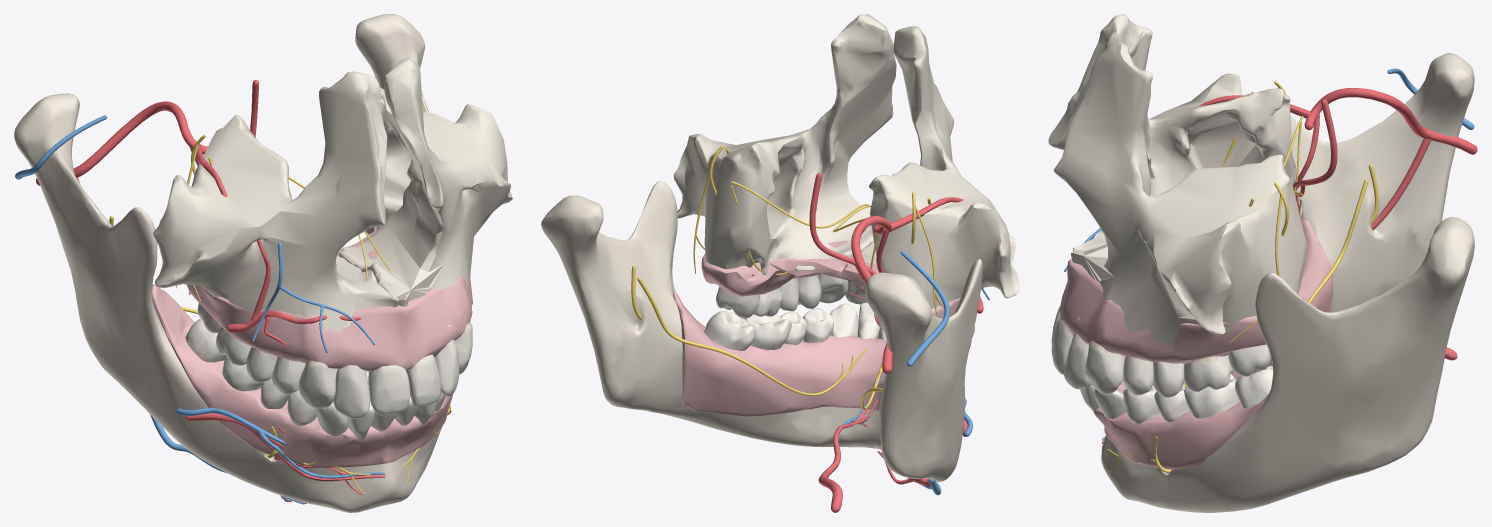
The model's file is teeth.glb.
3 renders of one model, left to right at view 1: azimuth 30°, elevation 25°; view 2: azimuth 150°, elevation 25°; view 3: azimuth 270°, elevation 25°, orthographic. The views are drawn at different scales.
Parts seen in each view (by area): view 1: right-maxilla, mandible, left-maxilla, upper-gum, lower-gum, upper-arteries, oral-veins, tooth-11-crown, tooth-12-crown, tooth-13-crown, tooth-21-crown, lower-arteries (+11 smaller); view 2: mandible, left-maxilla, right-maxilla, lower-gum, upper-gum, upper-arteries, upper-nerves, lower-nerves, tooth-37-crown, lower-arteries, oral-veins, tooth-36-crown (+8 smaller); view 3: mandible, left-maxilla, right-maxilla, lower-gum, upper-gum, upper-arteries, tooth-23-crown, tooth-36-crown, tooth-26-crown, lower-nerves, upper-nerves, tooth-37-crown (+9 smaller).
Boxes of the visible parts, box(x1,y1,x2,y2) form: right-maxilla: box(153, 71, 398, 332); mandible: box(14, 14, 440, 512); left-maxilla: box(338, 57, 512, 326); upper-gum: box(186, 227, 472, 371); lower-gum: box(152, 284, 452, 467); upper-arteries: box(36, 80, 361, 345); oral-veins: box(15, 115, 385, 504); tooth-11-crown: box(368, 365, 410, 415); tooth-12-crown: box(333, 365, 370, 418); tooth-13-crown: box(298, 362, 336, 408); tooth-21-crown: box(406, 354, 440, 406); lower-arteries: box(76, 177, 385, 503); mandible: box(541, 181, 982, 482); left-maxilla: box(673, 14, 896, 274); right-maxilla: box(861, 26, 1019, 308); lower-gum: box(673, 291, 886, 416); upper-gum: box(701, 240, 960, 329); upper-arteries: box(809, 173, 983, 373); upper-nerves: box(693, 145, 953, 317); lower-nerves: box(631, 265, 882, 409); tooth-37-crown: box(704, 311, 755, 350); lower-arteries: box(818, 370, 967, 512); oral-veins: box(836, 251, 989, 495); tooth-36-crown: box(745, 314, 791, 350); mandible: box(1101, 53, 1474, 512); left-maxilla: box(1054, 41, 1307, 346); right-maxilla: box(1048, 14, 1295, 252); lower-gum: box(1093, 219, 1332, 469); upper-gum: box(1059, 201, 1303, 363); upper-arteries: box(1199, 88, 1477, 208); tooth-23-crown: box(1085, 342, 1124, 394); tooth-36-crown: box(1184, 374, 1239, 418); tooth-26-crown: box(1184, 355, 1233, 392); lower-nerves: box(1107, 164, 1379, 472); upper-nerves: box(1222, 81, 1303, 343); tooth-37-crown: box(1235, 366, 1272, 408).
Bounding box in the file's own units: 2.67 × 2.79 × 2.37.
